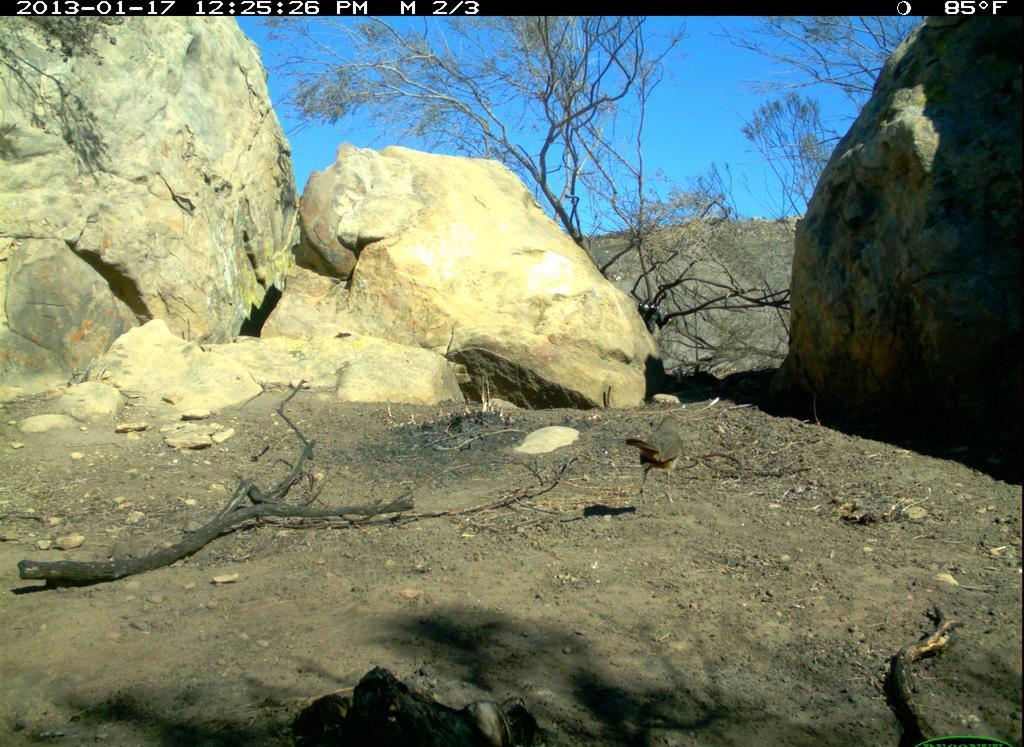bird: (610, 393, 710, 519)
